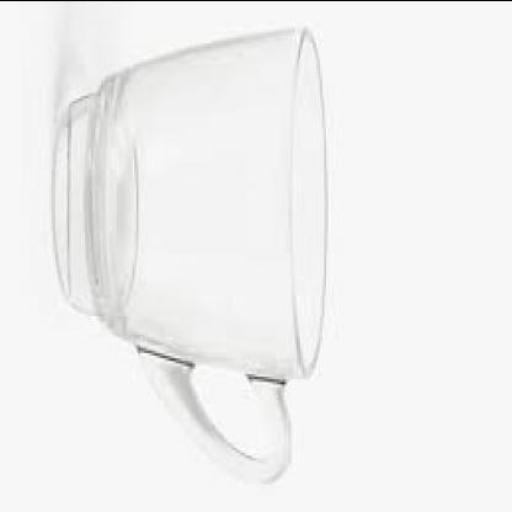glass: (57, 27, 328, 478)
